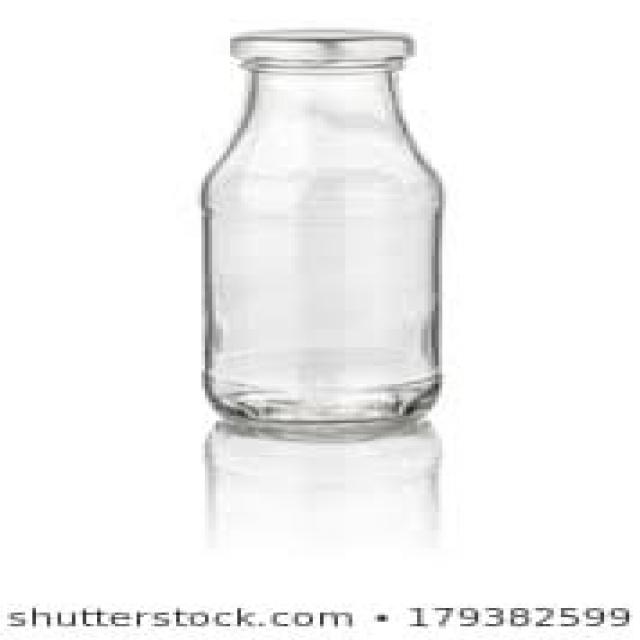Glass-Non-Biodegradable but Recyclable-: (202, 35, 448, 423)
